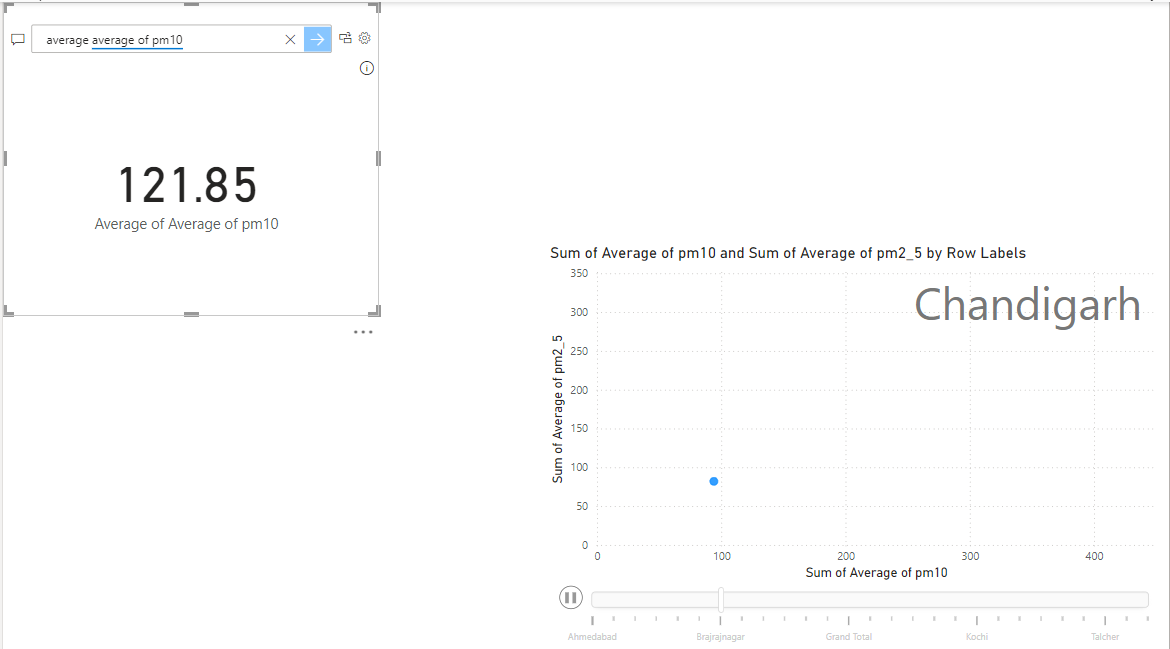

This screenshot's page, from the dashboard's own definition file:
{"tool":"powerbi","page":{"name":"Page 5","canvas":[1280,720],"ordinal":4},"visuals":[{"type":"scatterChart","fields":{"X":["Sum(pm.Average of pm10)"],"Y":["Sum(pm.Average of pm2_5)"],"Play":["pm.Row Labels"]},"box":[595,264.6,685.5,455.2],"z":0},{"type":"qnaVisual","box":[0,0,412.7,344.1],"z":1000}]}

Visuals, with their boxes on the page's 1280x720 design canvas (x1, y1, x2, y2). These are canvas units, not pixel positions in the 1170x649 screenshot, which may show the page scaled, cropped or inside an application window:
scatterChart - Sum(pm.Average of pm10) x Sum(pm.Average of pm2_5): detection(595, 265, 1280, 720)
qnaVisual: detection(0, 0, 413, 344)
